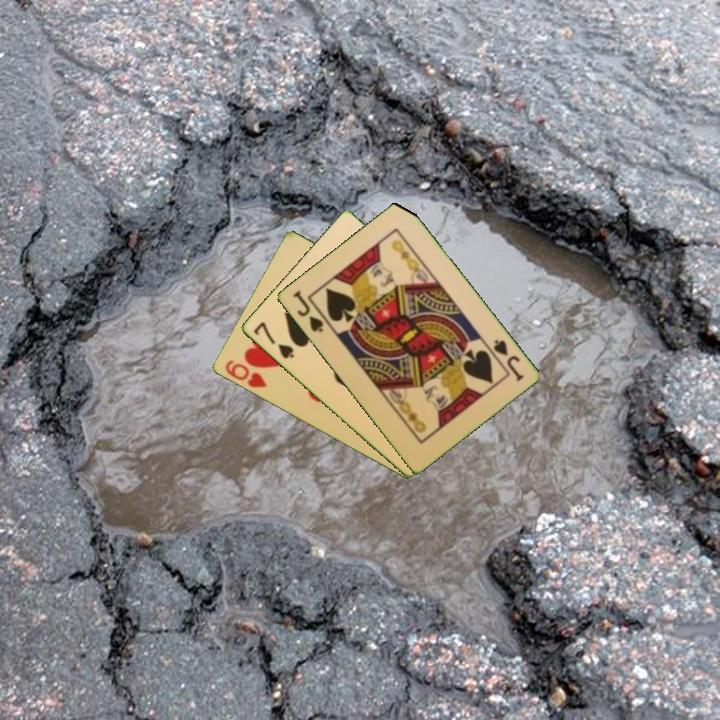6h: (221, 356, 269, 391)
7s: (249, 318, 297, 362)
Js: (289, 287, 326, 336), (489, 336, 526, 384)
